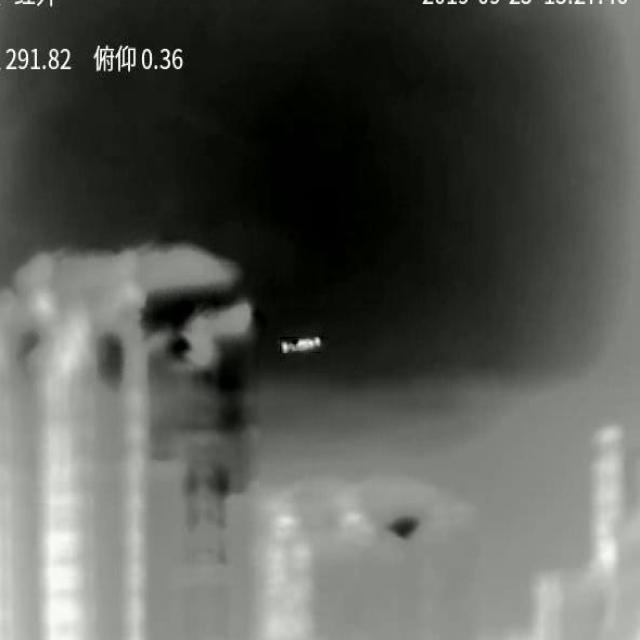drone: (281, 337, 321, 353)
